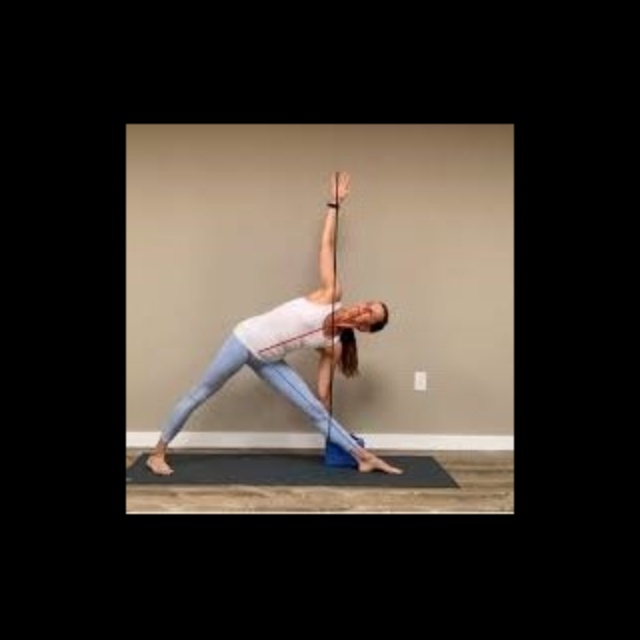Triangle_Pose: (132, 165, 407, 483)
